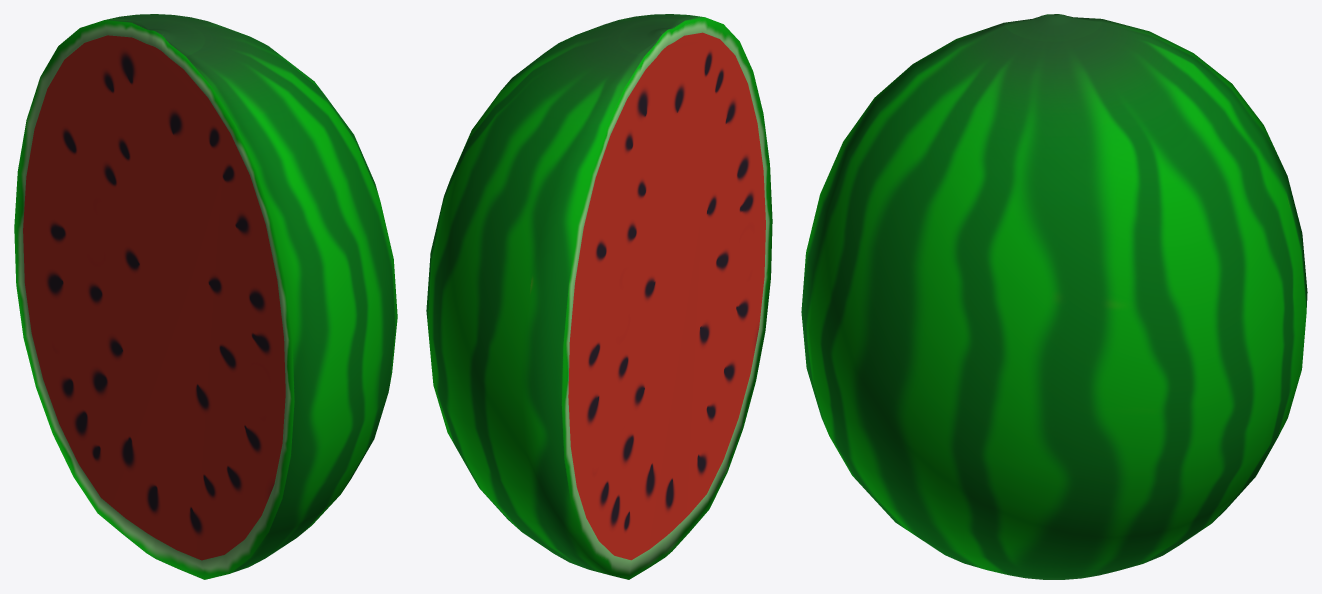
Rendered from melonHalved.fbx.
3 renders of one model, left to right at view 1: azimuth 30°, elevation 25°; view 2: azimuth 150°, elevation 25°; view 3: azimuth 270°, elevation 25°, orthographic. The views are drawn at different scales.
Visible parts, largest first — view 1: melonHalved; view 2: melonHalved; view 3: melonHalved.
Part boxes in pixels (<box>): melonHalved: <box>14,14,397,579</box>; melonHalved: <box>426,14,772,579</box>; melonHalved: <box>801,14,1307,579</box>.
Size of the model in its own units: 0.1545 by 0.3416 by 0.2913.
1 material, 1 textured.
